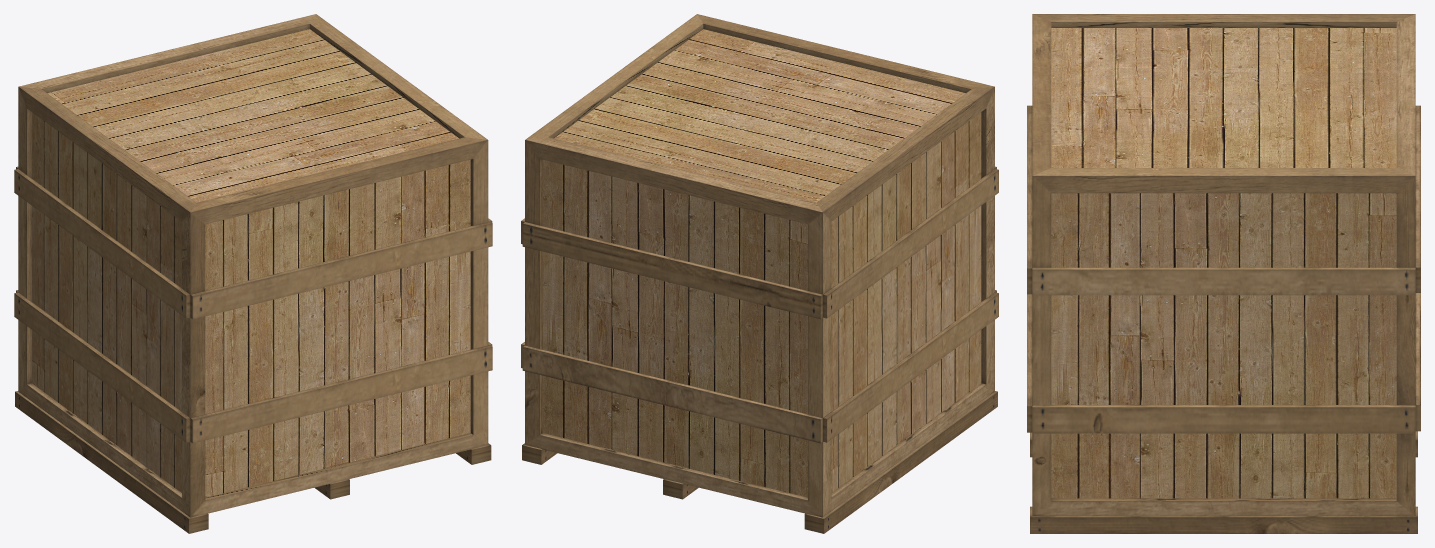
3 renders of one model, left to right at view 1: azimuth 30°, elevation 25°; view 2: azimuth 150°, elevation 25°; view 3: azimuth 270°, elevation 25°, orthographic. The views are drawn at different scales.
Parts seen in each view (by area): view 1: bin; view 2: bin; view 3: bin.
Boxes of the visible parts, bbox=[...] form: bin: bbox=[14, 14, 492, 533]; bin: bbox=[521, 14, 998, 533]; bin: bbox=[1027, 14, 1420, 533].
Size of the model in its own units: 1 by 1 by 1.
2 materials, 2 textured.
